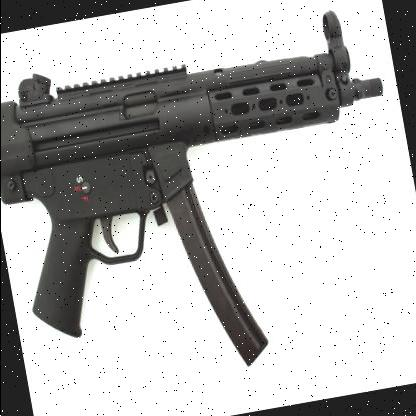rifle: (0, 0, 404, 400)
